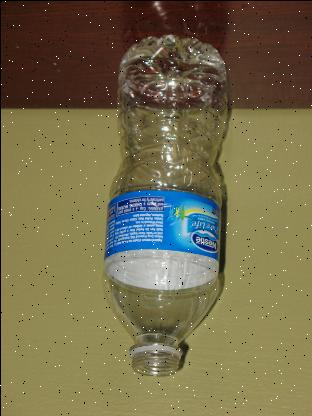Plastic Bottle: (102, 33, 230, 377)
